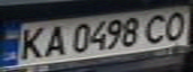0: (69, 20, 93, 54)
4: (87, 18, 109, 52)
8: (118, 15, 145, 48)
9: (106, 17, 127, 51)
A: (39, 22, 69, 58)
C: (139, 11, 175, 45)
K: (12, 24, 48, 62)
O: (157, 8, 193, 42)
